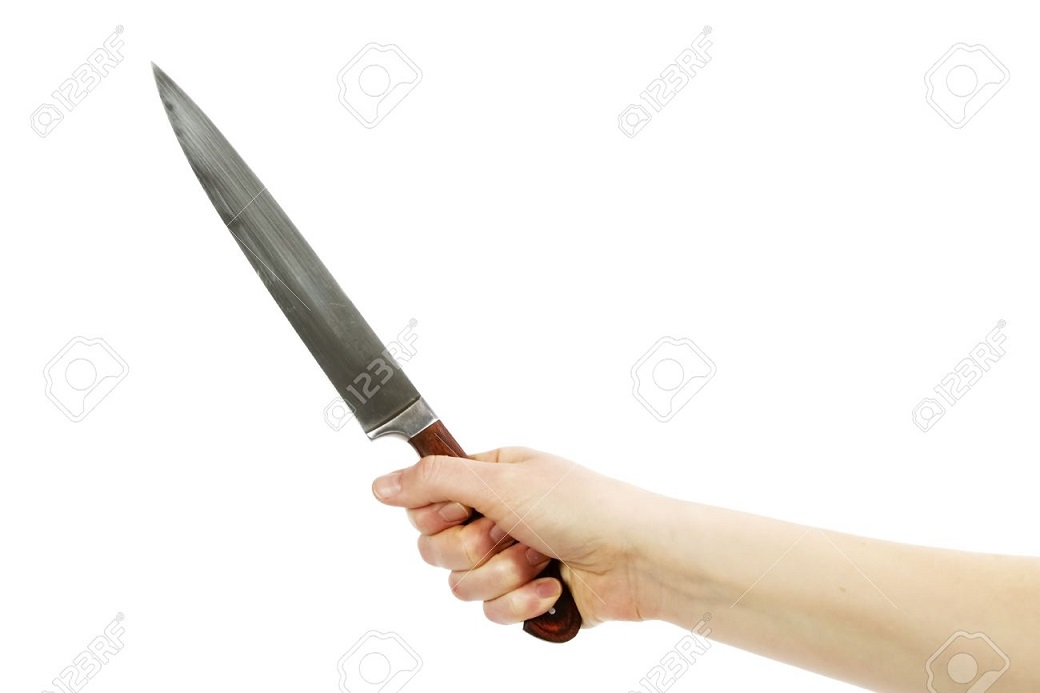knife: (135, 44, 548, 604)
